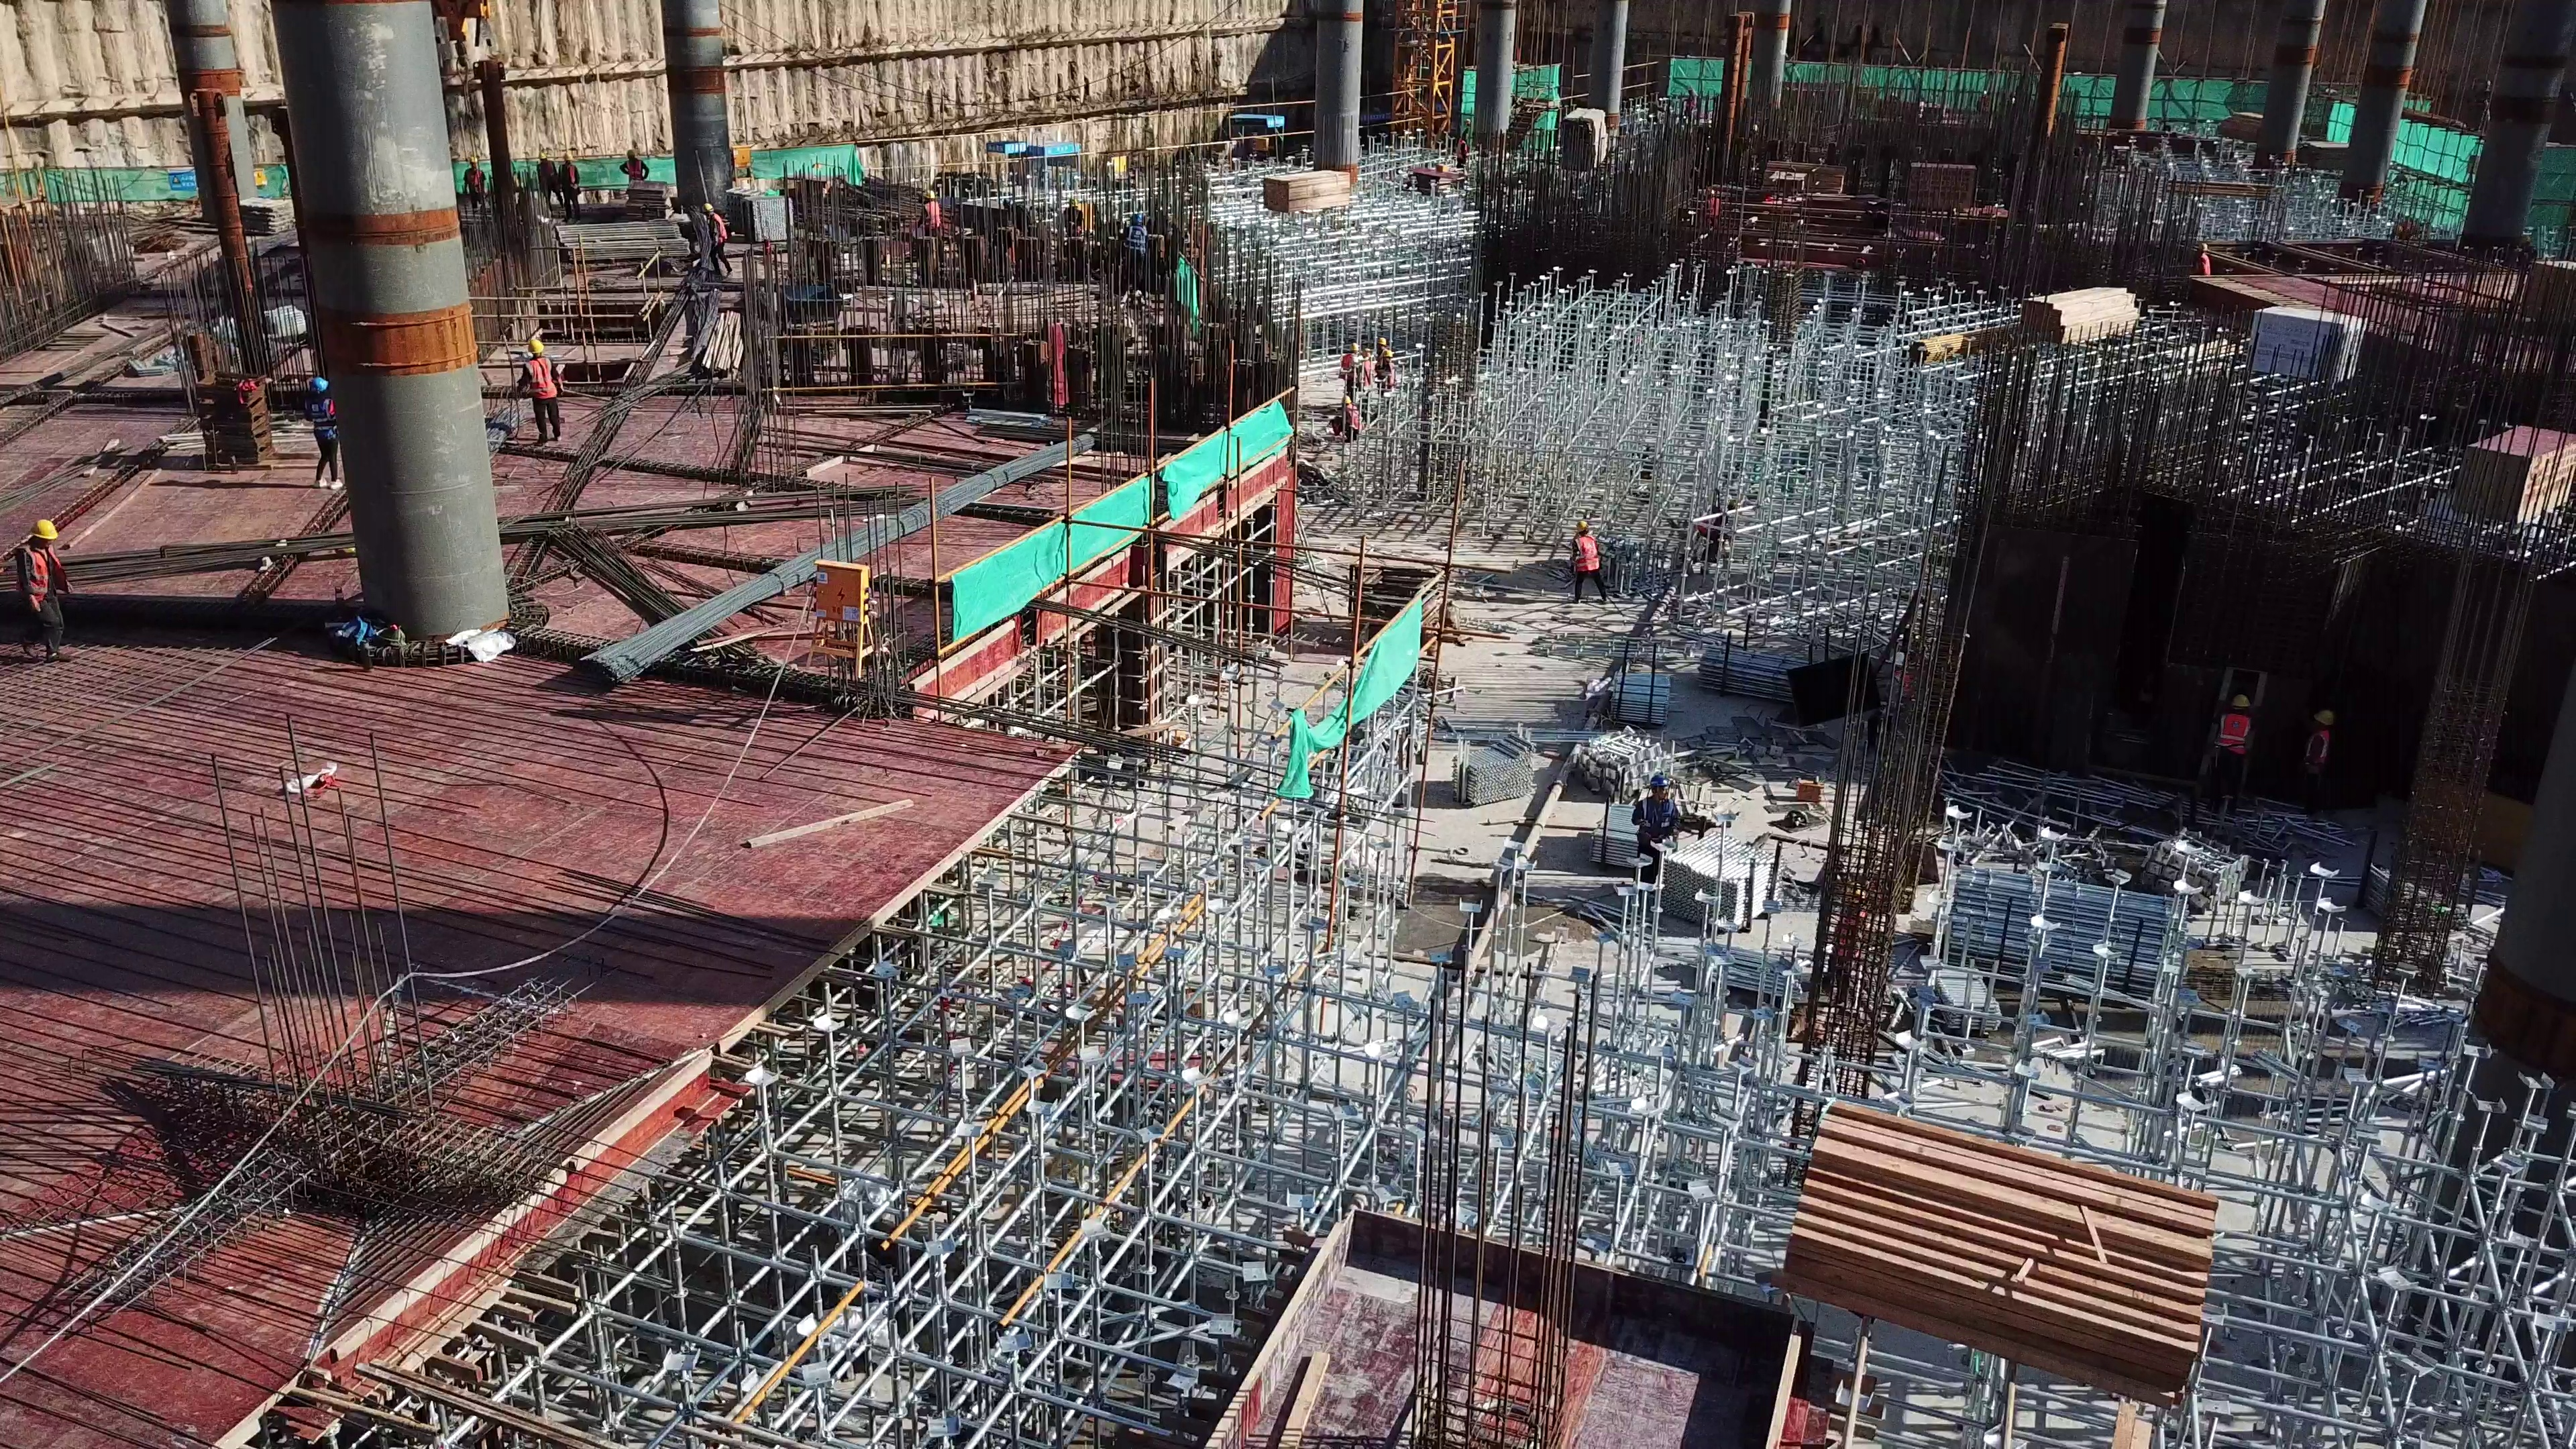helmet: (32, 521, 57, 543), (305, 374, 327, 392), (531, 336, 547, 354), (2235, 692, 2251, 710), (1573, 515, 1587, 533), (2318, 710, 2334, 723), (1650, 772, 1666, 786), (1376, 333, 1388, 349), (1129, 215, 1140, 227), (563, 150, 572, 164), (1343, 394, 1353, 405), (1350, 339, 1358, 352), (923, 184, 931, 198), (704, 202, 712, 211)
person: (14, 517, 73, 659), (521, 339, 566, 446), (304, 374, 343, 496), (2216, 693, 2249, 811), (2306, 707, 2340, 820), (1630, 775, 1678, 853), (1829, 887, 1859, 1007), (1568, 519, 1606, 600), (700, 203, 734, 280), (560, 148, 584, 221), (1122, 215, 1148, 274), (536, 151, 561, 208), (463, 154, 486, 211), (1338, 394, 1363, 438), (1339, 341, 1358, 391), (619, 149, 647, 182), (921, 190, 942, 234), (2187, 243, 2211, 276), (1379, 350, 1395, 389), (1377, 334, 1390, 366), (1705, 190, 1720, 221), (1458, 131, 1468, 170)
vest: (20, 547, 66, 604), (1639, 796, 1674, 839), (525, 358, 555, 401), (307, 397, 336, 437), (2221, 714, 2245, 753), (1575, 538, 1600, 572), (708, 213, 724, 241), (924, 200, 940, 226), (2196, 254, 2211, 274), (1128, 228, 1143, 249), (626, 162, 643, 178), (1342, 352, 1353, 378), (1348, 406, 1359, 429), (570, 166, 579, 190)
